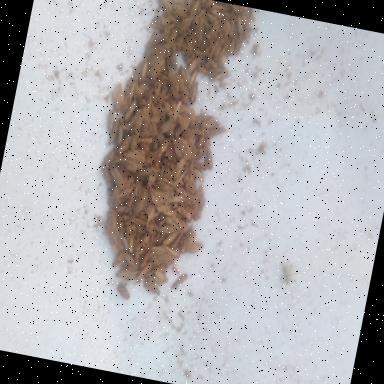pbw: (122, 72, 140, 112), (179, 223, 199, 256), (108, 80, 128, 112), (106, 165, 129, 190), (170, 136, 192, 160), (201, 140, 218, 170), (231, 14, 248, 44), (170, 166, 188, 192), (113, 116, 127, 146), (207, 38, 222, 66), (135, 232, 151, 256), (176, 204, 195, 224), (164, 215, 186, 232), (171, 272, 188, 293), (186, 82, 200, 106), (178, 15, 194, 36), (160, 117, 178, 135), (172, 157, 186, 180), (186, 56, 202, 76), (136, 262, 152, 282), (206, 6, 226, 22), (124, 100, 137, 124), (115, 284, 132, 302), (168, 46, 180, 71), (162, 231, 178, 249), (186, 240, 204, 256), (126, 150, 146, 164), (157, 138, 171, 158), (112, 251, 126, 270), (146, 166, 158, 188), (115, 214, 128, 234), (152, 268, 168, 284), (172, 99, 182, 122), (176, 66, 190, 82), (116, 268, 134, 280), (192, 168, 206, 183), (106, 112, 116, 133), (212, 70, 228, 83), (140, 60, 149, 82), (158, 225, 176, 236), (168, 28, 180, 44), (170, 194, 186, 206), (140, 250, 150, 269), (137, 166, 151, 179), (152, 276, 163, 286)
